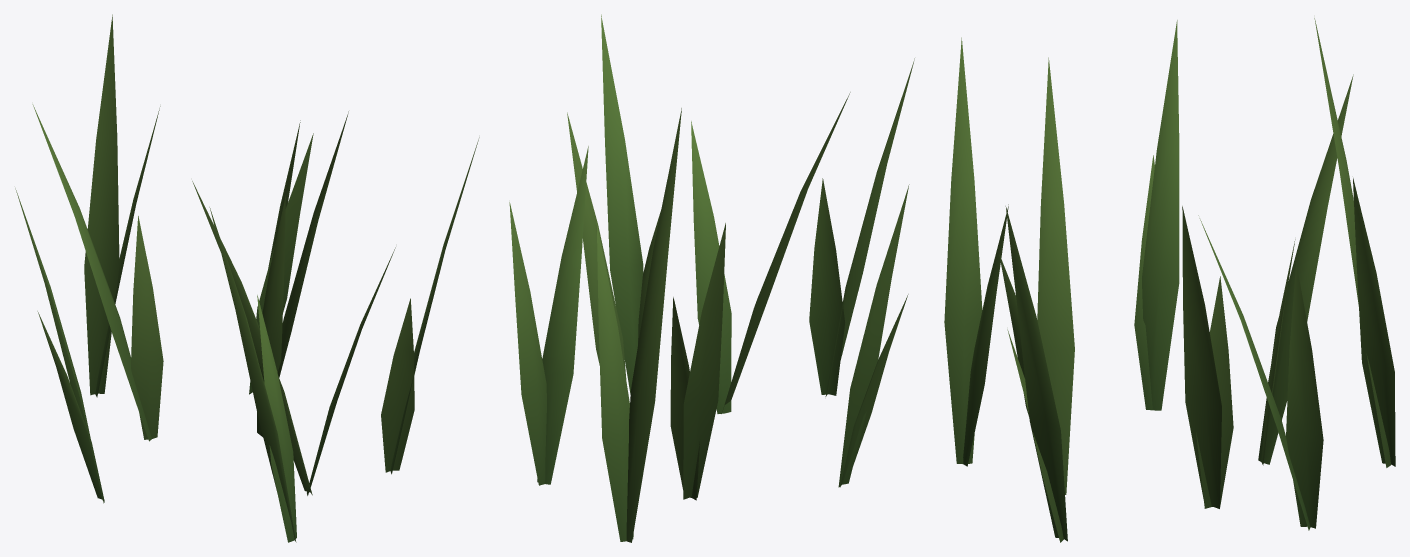
File: crop_grain_s0.glb
3 views of the same model, side by side, from view 1: azimuth 30°, elevation 25°; view 2: azimuth 150°, elevation 25°; view 3: azimuth 270°, elevation 25° (orthographic). The views are drawn at different scales.
Visible parts, largest first — view 1: Crop_Grain_S0; view 2: Crop_Grain_S0; view 3: Crop_Grain_S0.
Part boxes in pixels (x1,y1,x2,y2): Crop_Grain_S0: (15, 14, 479, 542); Crop_Grain_S0: (509, 14, 914, 542); Crop_Grain_S0: (944, 18, 1395, 542).
Size of the model in its own units: 0.0745 by 0.0758 by 0.0703.
